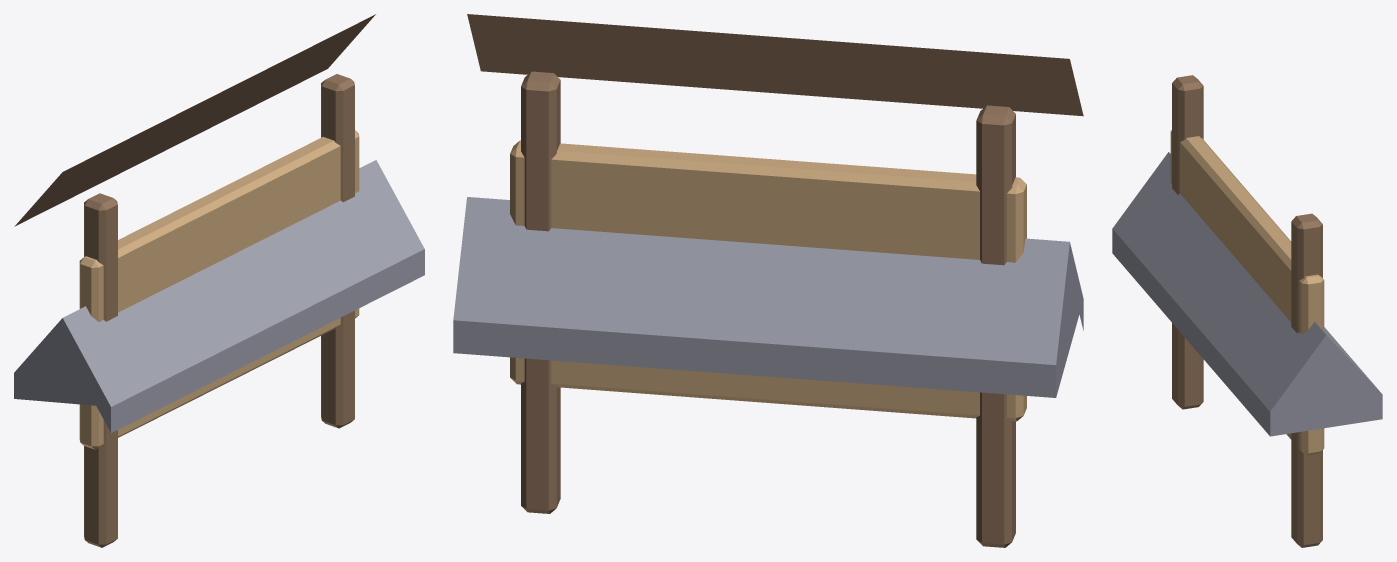
The model's file is town_notice_board.glb.
The picture shows the model from 3 angles, left to right: view 1: azimuth 30°, elevation 25°; view 2: azimuth 150°, elevation 25°; view 3: azimuth 270°, elevation 25°; orthographic projection. The views are drawn at different scales.
Visible parts, largest first — view 1: world; view 2: world; view 3: world.
Part boxes in pixels (<box>): world: <box>14,14,424,547</box>; world: <box>453,14,1083,547</box>; world: <box>1112,75,1382,547</box>.
Bounding box in the file's own units: 2 × 1.71 × 1.14.
